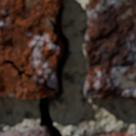brick: (0, 0, 62, 88), (84, 0, 135, 98), (0, 63, 52, 99), (105, 131, 135, 135)
broken_brick: (0, 125, 49, 135)
crack: (0, 1, 70, 135)
